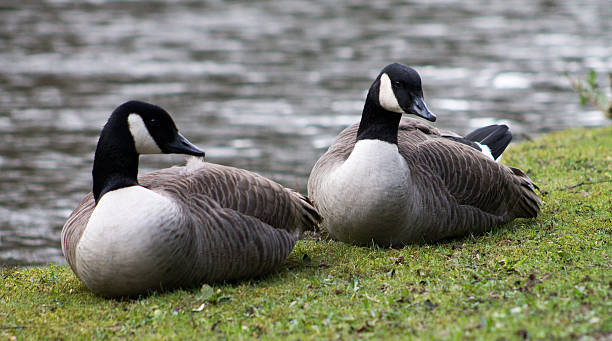goose: (58, 99, 325, 301), (304, 58, 543, 246)
